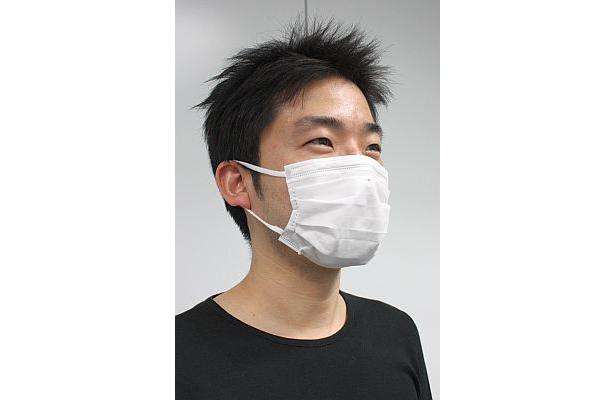mask: (282, 159, 391, 268)
